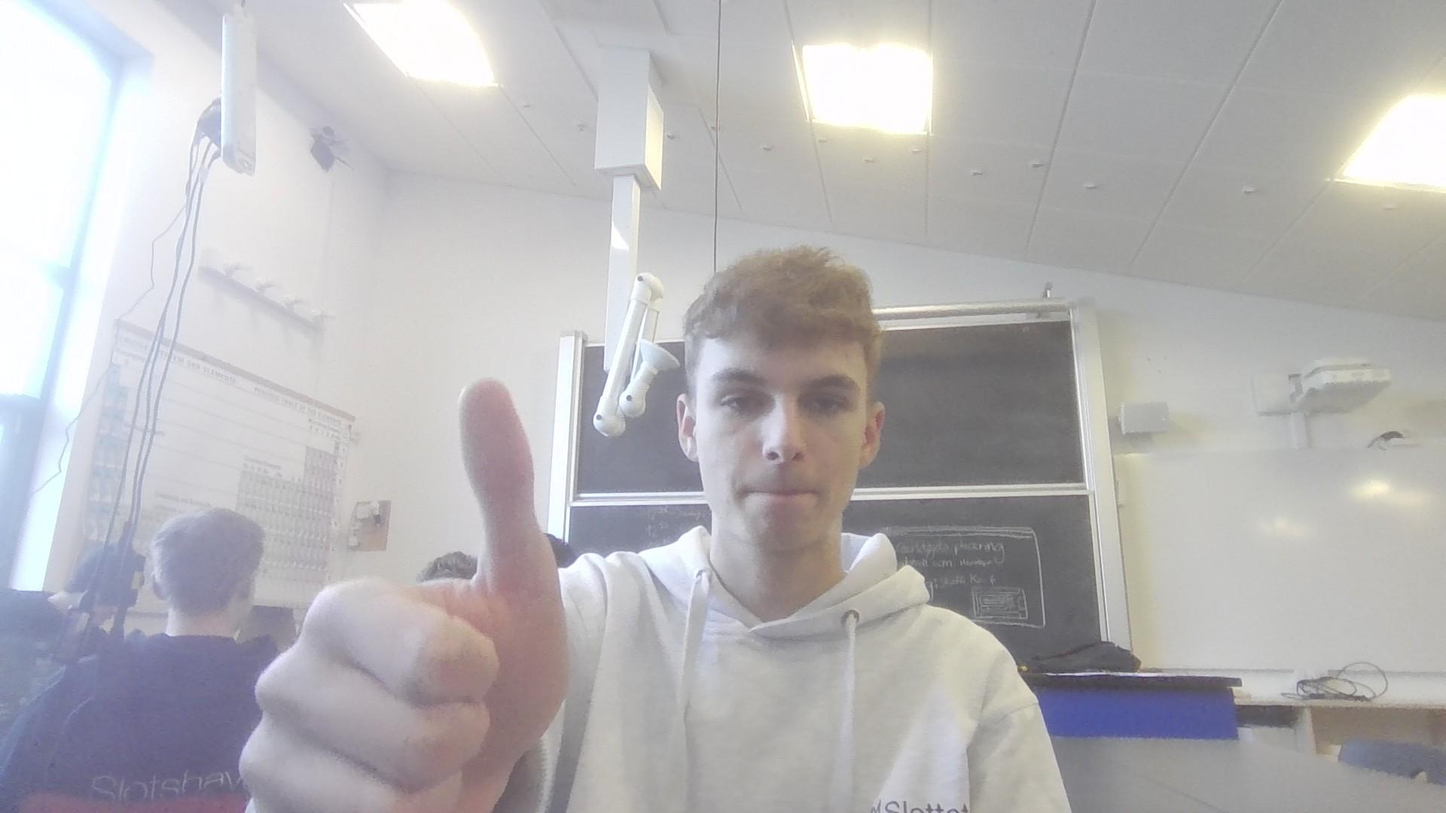thumbs up: (207, 375, 569, 813)
